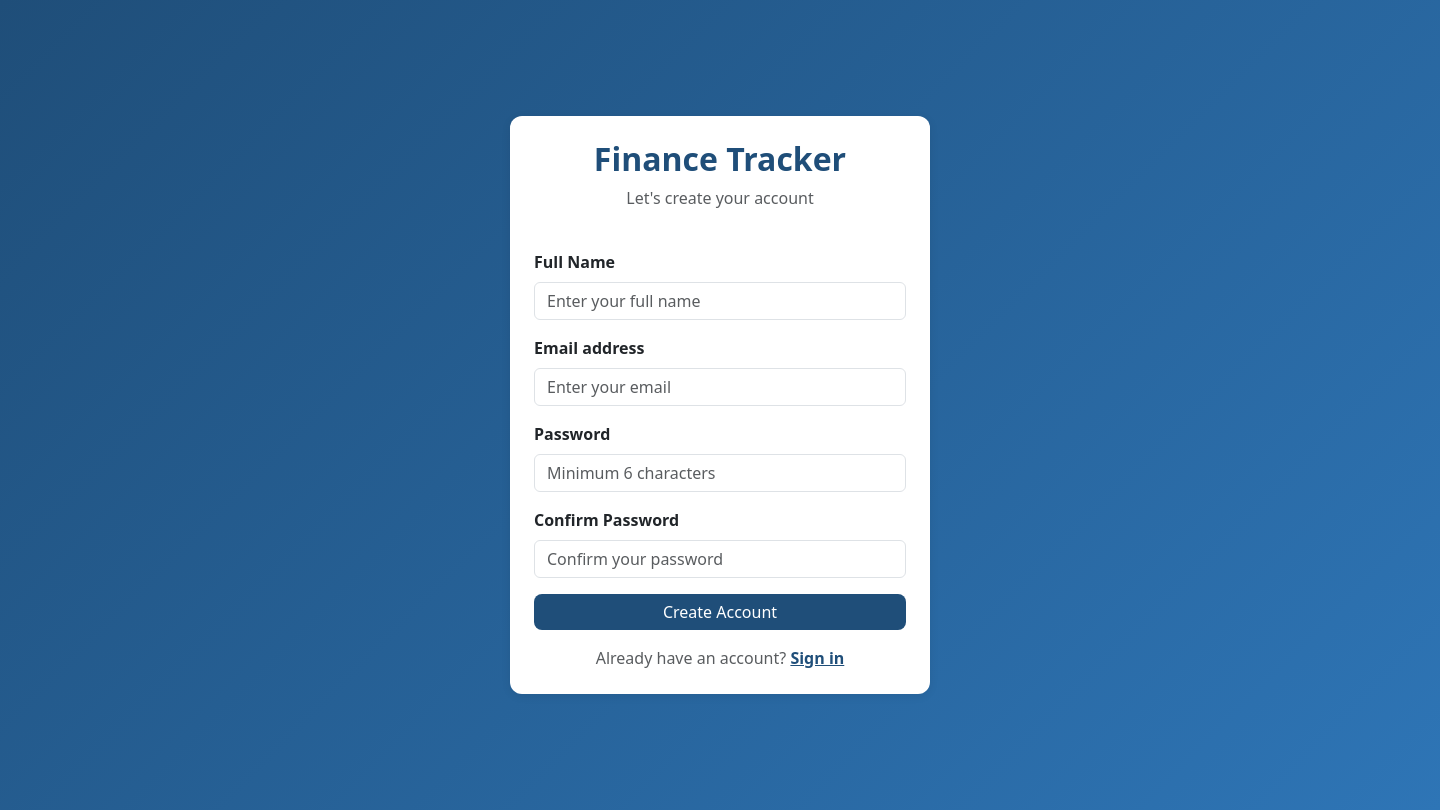
Test: Register Component › UT07 - Shows error when passwords do not match
Type "Gourav Khurana" into the field with placeholder "Enter your full name" at (720, 301), box x1=534 y1=282 x2=906 y2=320
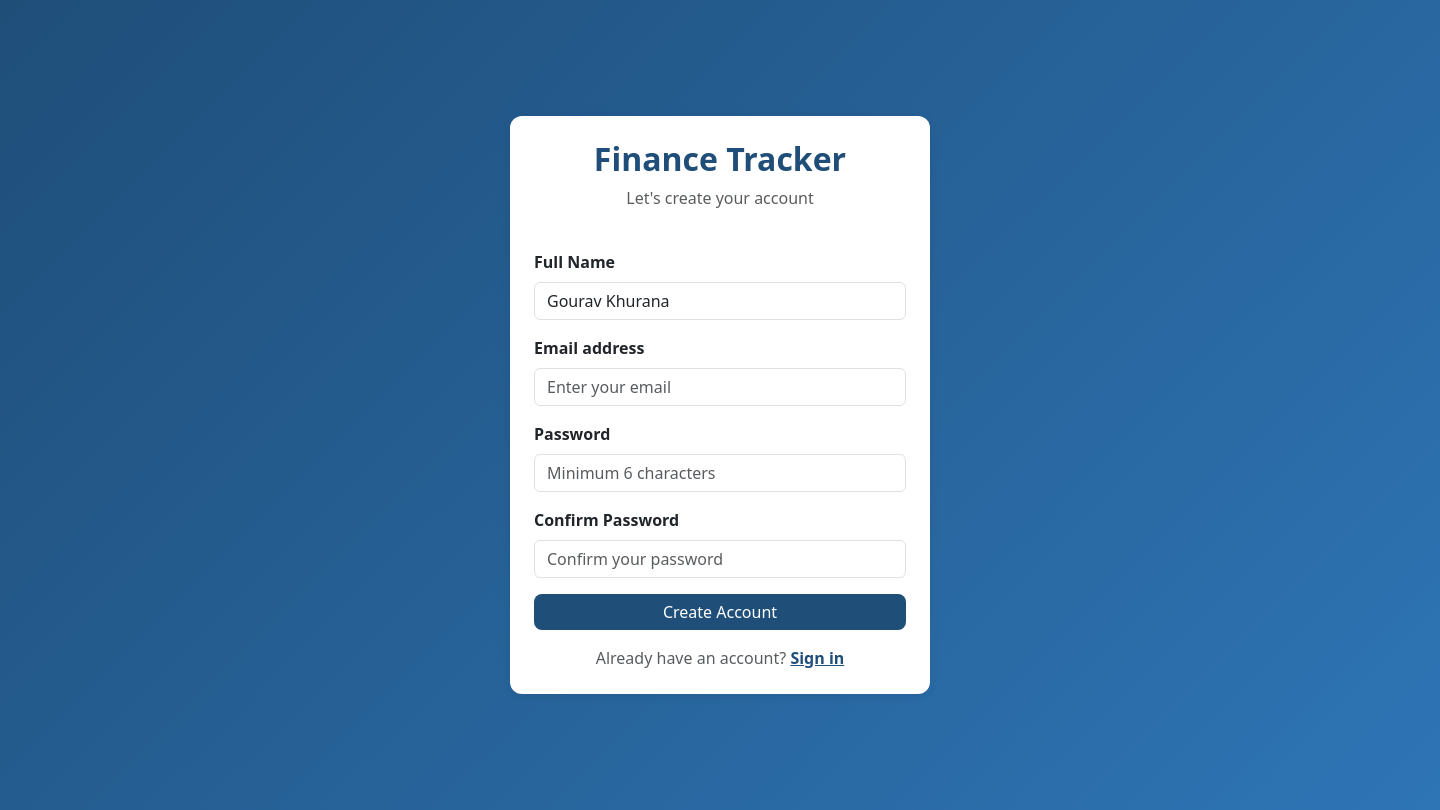
Type "gourav@gmail.com" into the field with placeholder "Enter your email" at (720, 387), box x1=534 y1=368 x2=906 y2=406
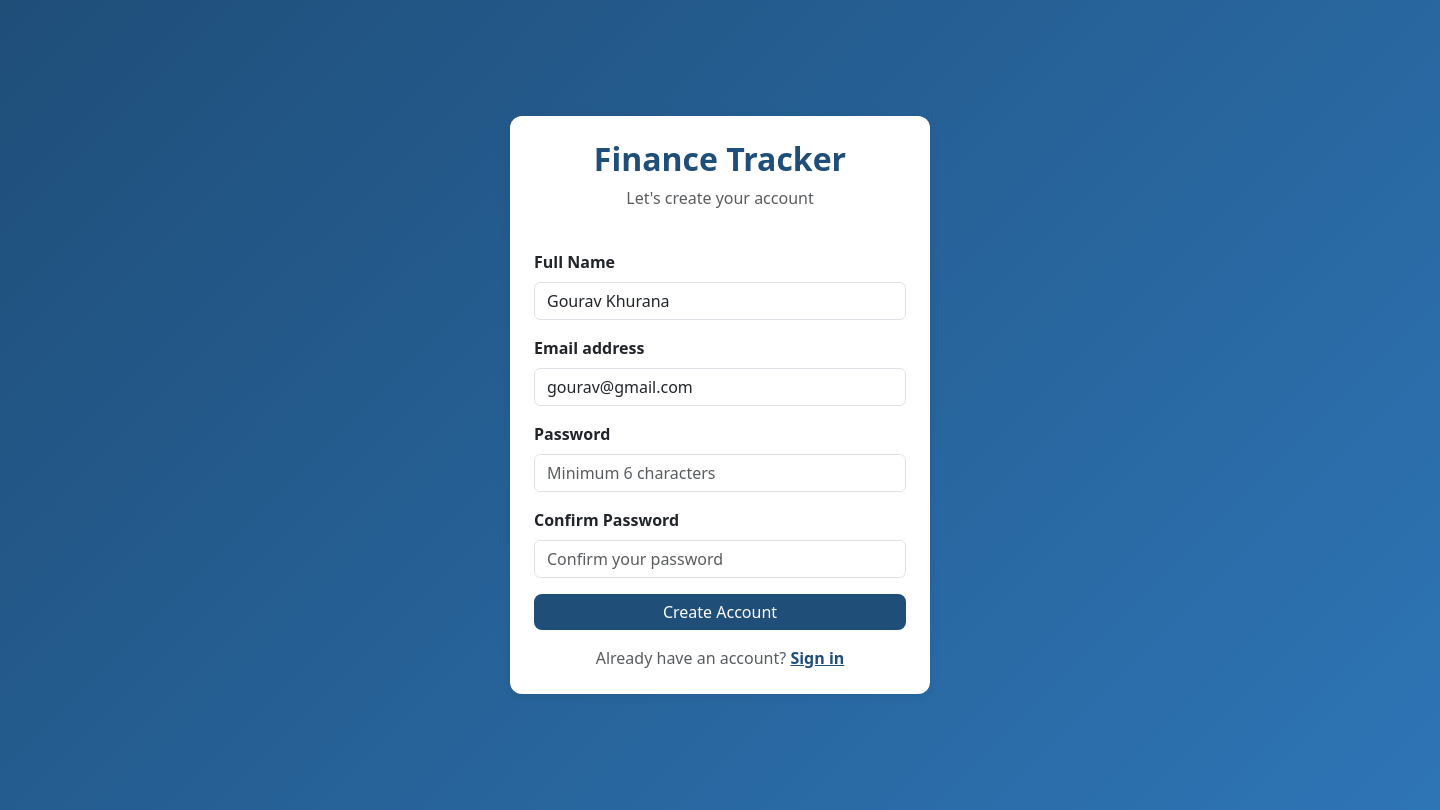
Type "password123" into the password field with placeholder "Minimum 6 characters" at (720, 473), box x1=534 y1=454 x2=906 y2=492
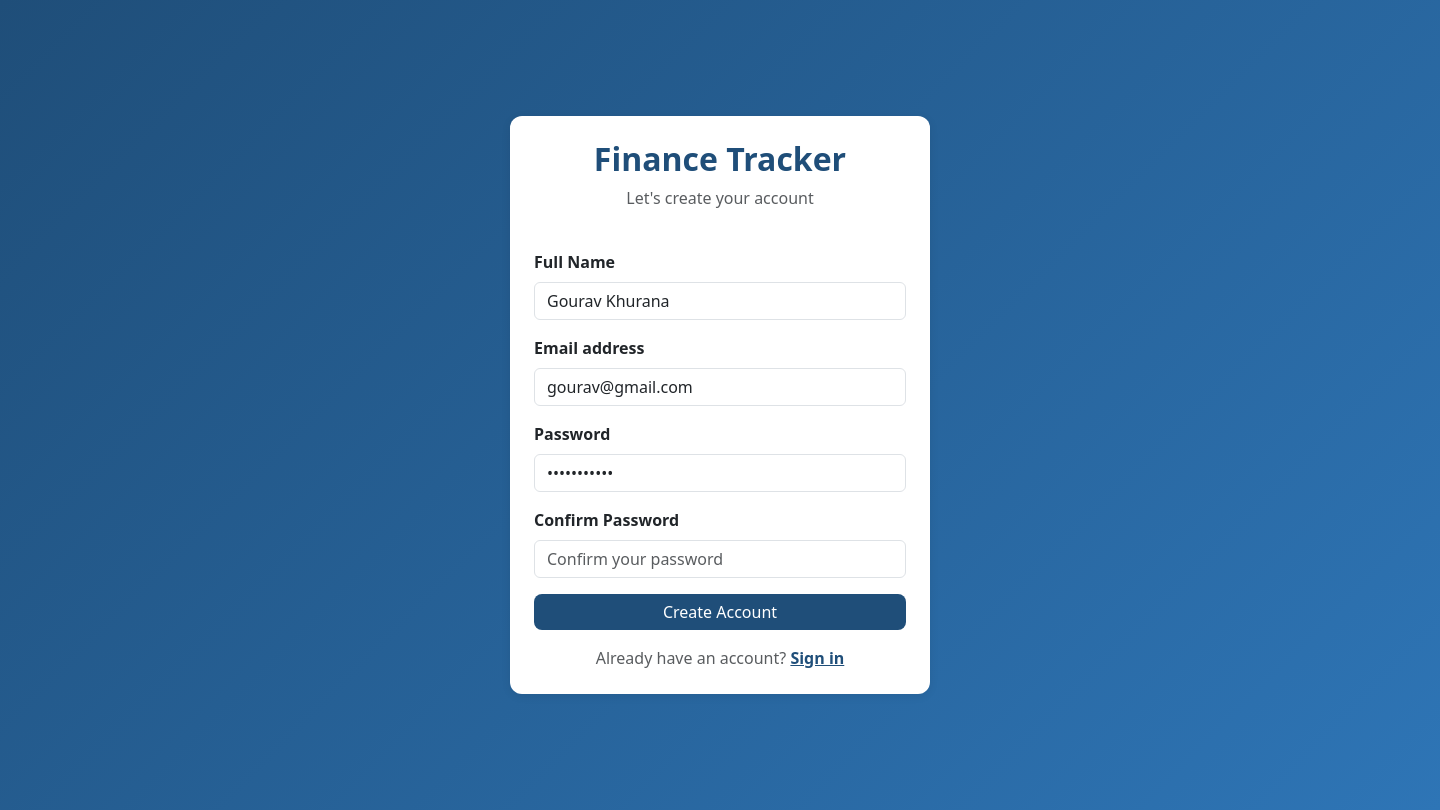
Type "differentpassword" into the password field with placeholder "Confirm your password" at (720, 559), box x1=534 y1=540 x2=906 y2=578
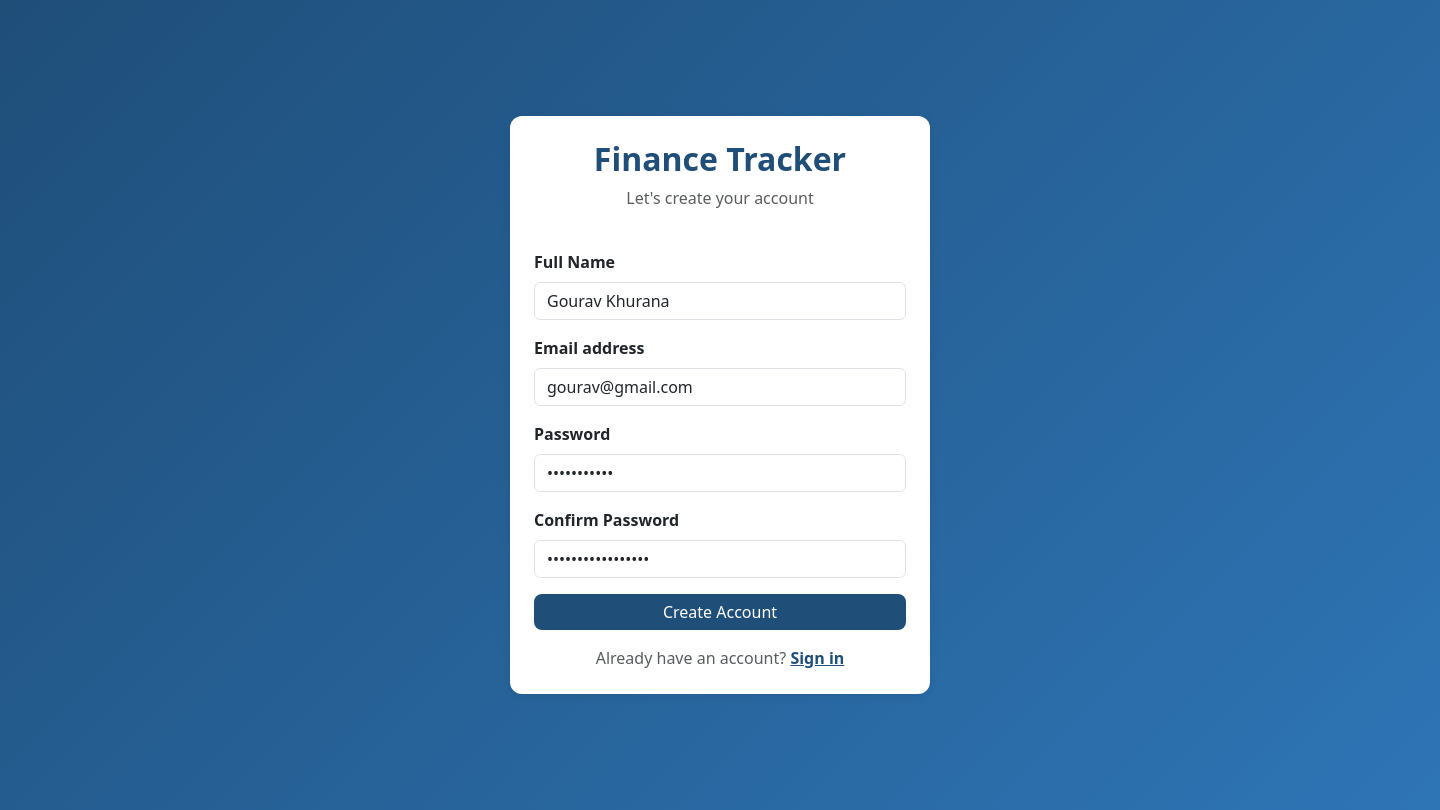
Click the button "Create Account" at (720, 612), box x1=534 y1=594 x2=906 y2=630
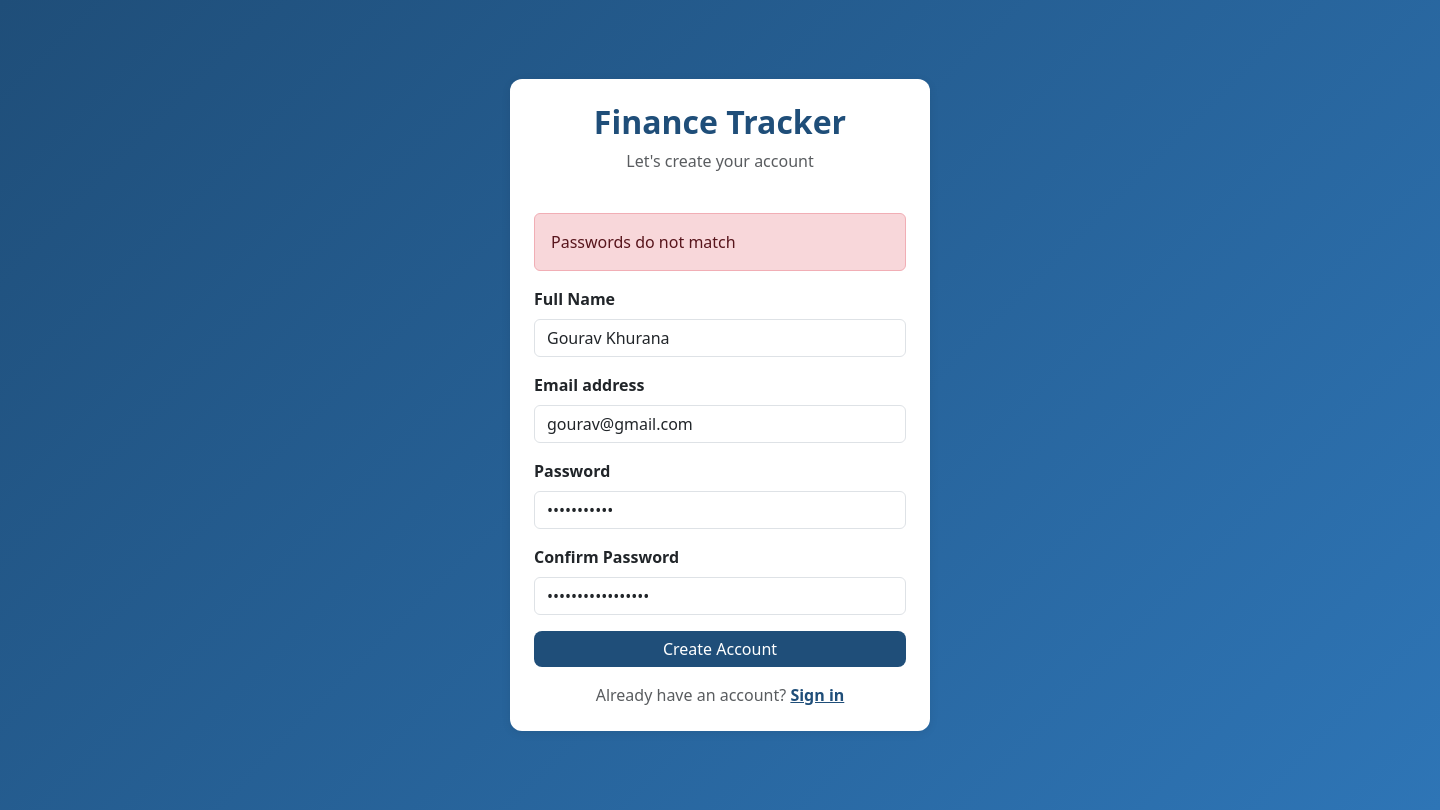
expect the text "Passwords do not match" is shown: met, box x1=534 y1=213 x2=906 y2=271
